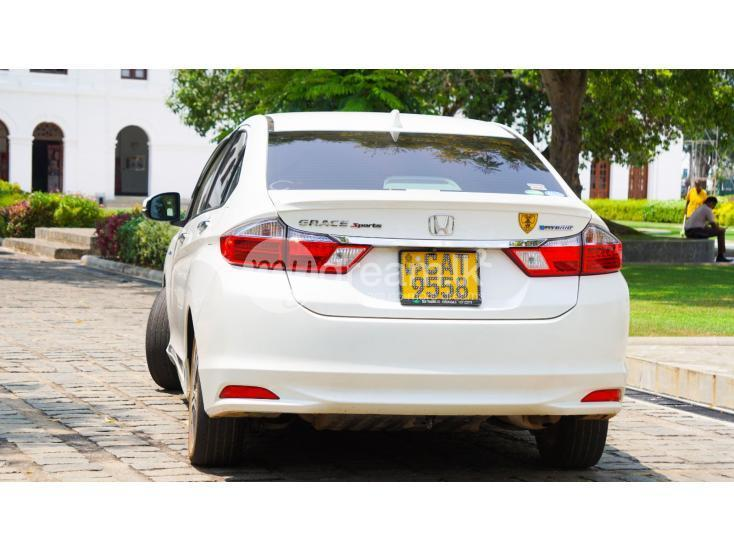license-plate: (399, 250, 477, 297)
